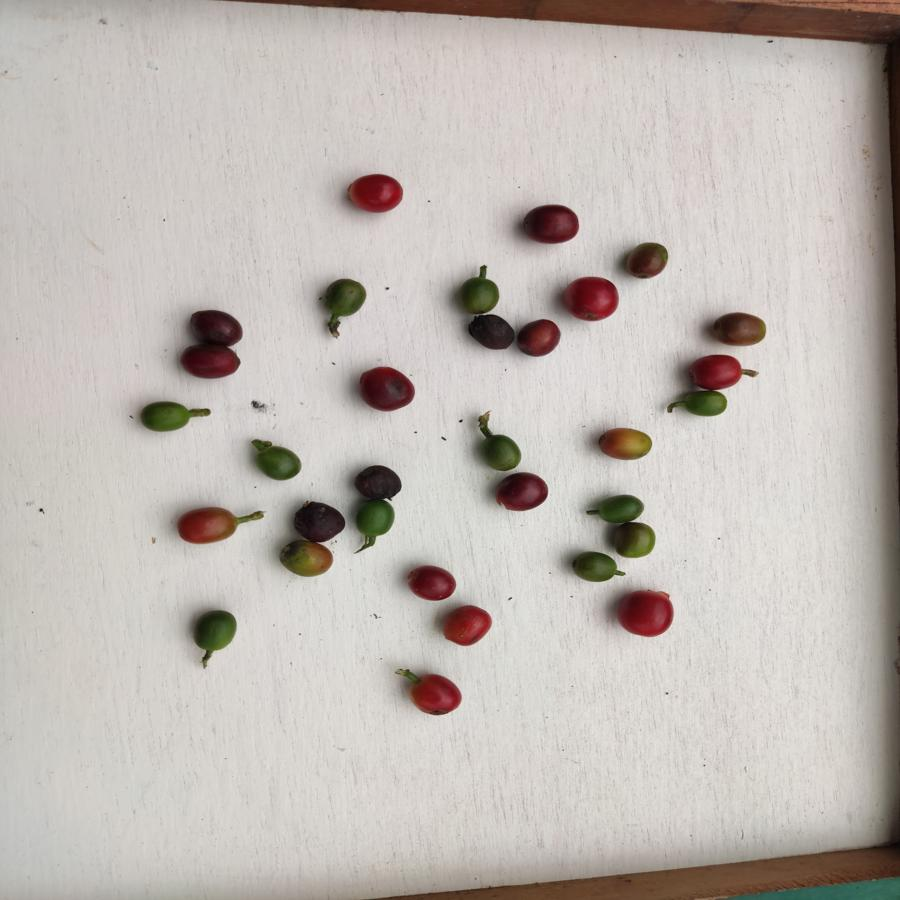Inmaduro: (191, 608, 242, 661), (350, 498, 396, 544), (139, 399, 195, 435), (323, 277, 369, 319), (477, 431, 522, 473), (612, 519, 658, 560), (678, 388, 735, 421), (567, 551, 624, 583), (460, 275, 502, 315), (258, 443, 303, 479), (596, 490, 644, 522)
Maduro: (563, 273, 620, 326), (618, 590, 672, 638), (346, 173, 404, 216), (406, 672, 463, 715), (686, 350, 743, 389), (444, 602, 492, 648)
Pinton: (173, 506, 244, 549), (594, 422, 657, 460), (273, 540, 332, 579), (709, 312, 771, 345), (626, 242, 672, 282)
Sobremaduro: (359, 366, 418, 413), (292, 498, 350, 543), (494, 471, 552, 515), (188, 307, 246, 348), (520, 204, 578, 243), (182, 345, 246, 380), (515, 315, 562, 358), (407, 562, 458, 601), (466, 311, 513, 352), (355, 464, 403, 497)
